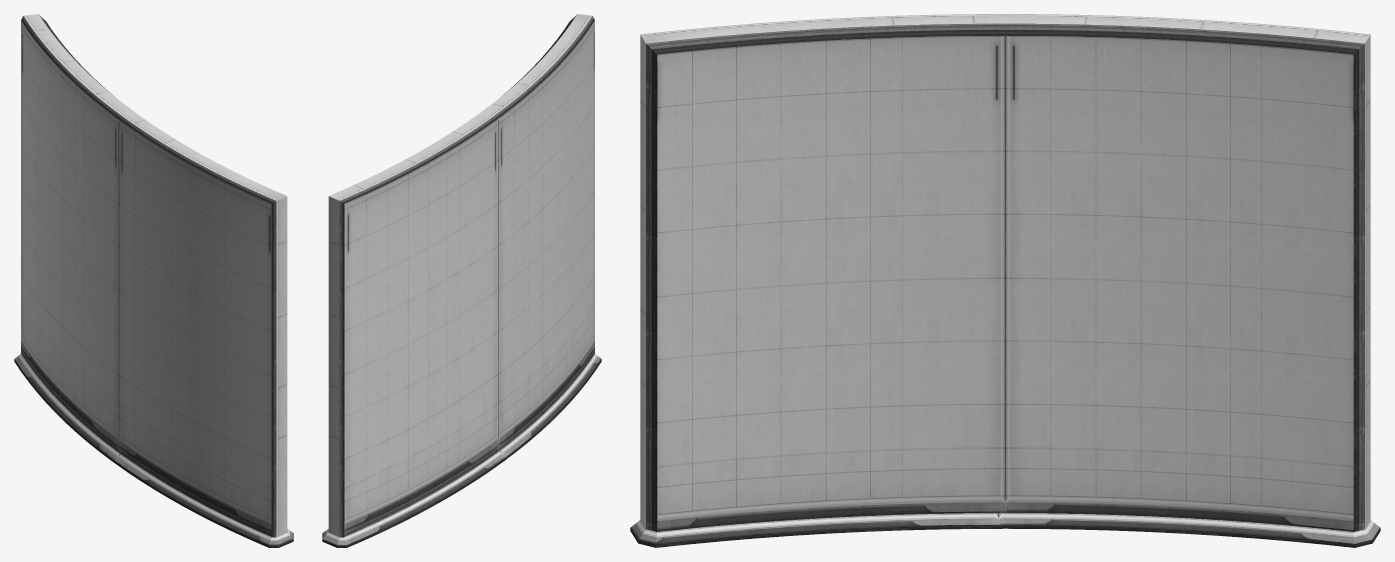
Rendered from Emb_SignBoard_01.FBX.
The picture shows the model from 3 angles, left to right: view 1: azimuth 30°, elevation 25°; view 2: azimuth 150°, elevation 25°; view 3: azimuth 270°, elevation 25°; orthographic projection. The views are drawn at different scales.
Parts seen in each view (by area): view 1: Emb_SignBoard_01; view 2: Emb_SignBoard_01; view 3: Emb_SignBoard_01.
Boxes of the visible parts, x1,y1,x2,y2 form: Emb_SignBoard_01: (14, 14, 293, 547); Emb_SignBoard_01: (322, 14, 601, 547); Emb_SignBoard_01: (630, 14, 1380, 547).
Size of the model in its own units: 0.5481 by 3 by 4.1.
